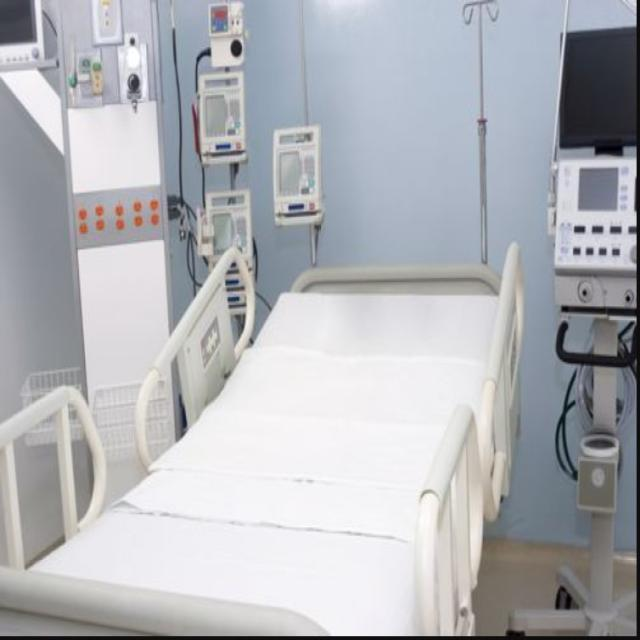Monitor: (549, 163, 640, 307), (548, 11, 640, 149)
Saline Stand: (447, 0, 526, 312)
bed: (0, 240, 525, 638)
